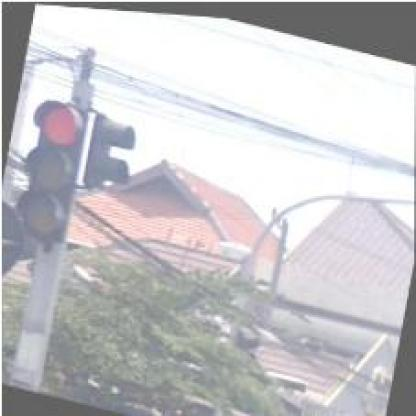red: (10, 92, 89, 246)
